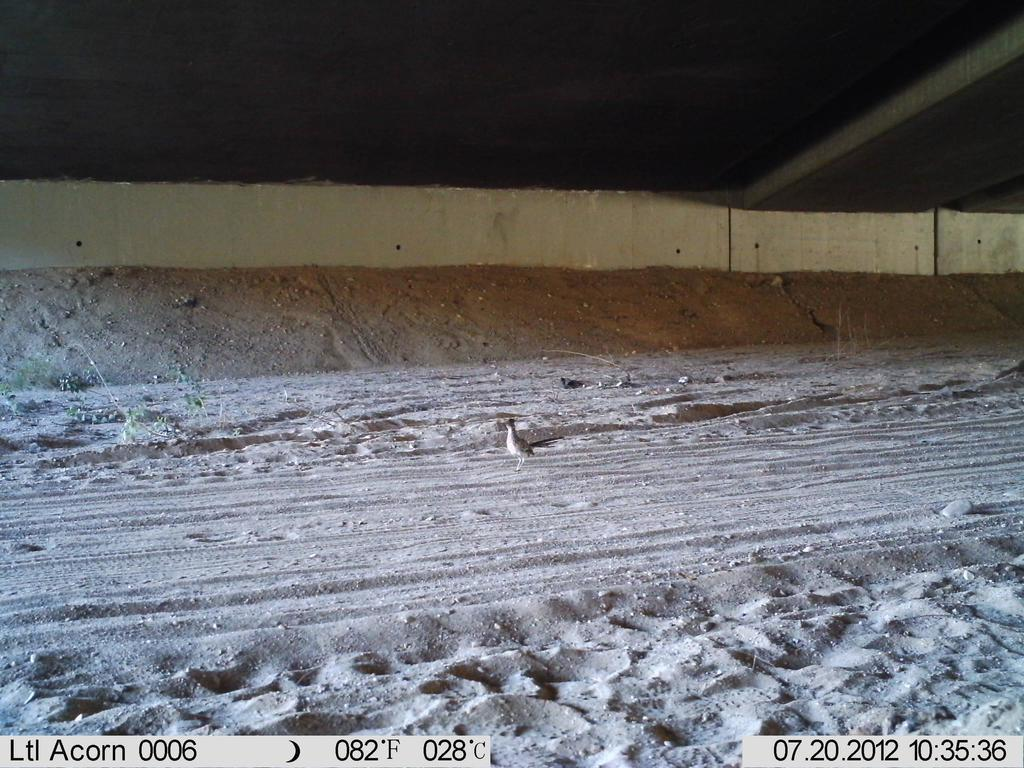bird: (502, 418, 552, 470)
